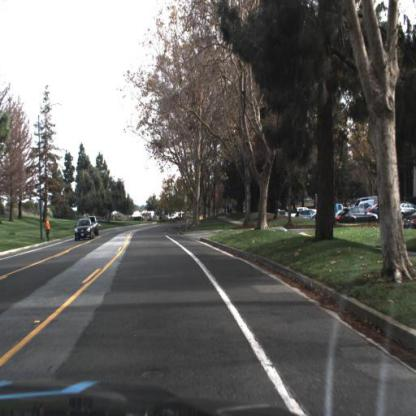car: (335, 207, 380, 224), (75, 218, 94, 243), (89, 215, 103, 236)
pedestrian: (43, 216, 53, 247)
